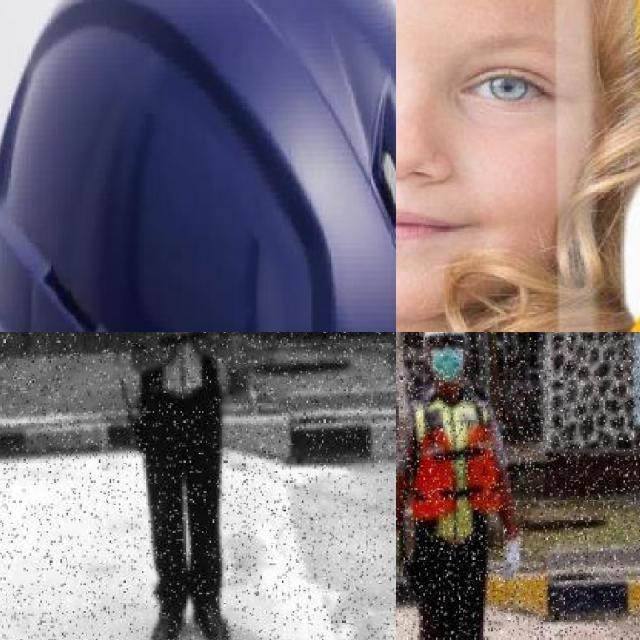apron: (499, 536, 522, 585)
